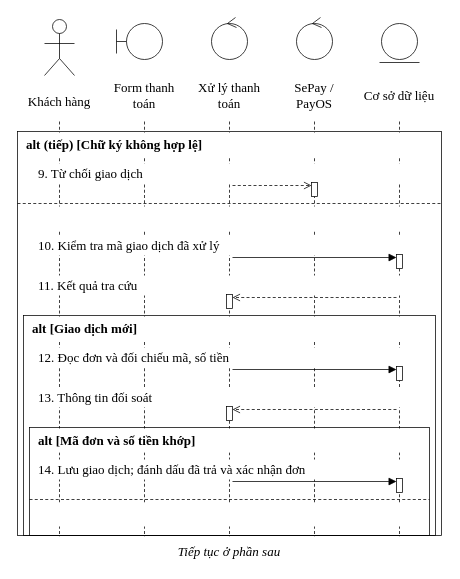
Some shapes in this 460 by 579 pixel diagram are drawn without their labels. Each missing label, with the box of its shape:
[Chữ ký hợp lệ]: (21, 206, 437, 230)
[Không khớp]: (33, 502, 425, 526)
